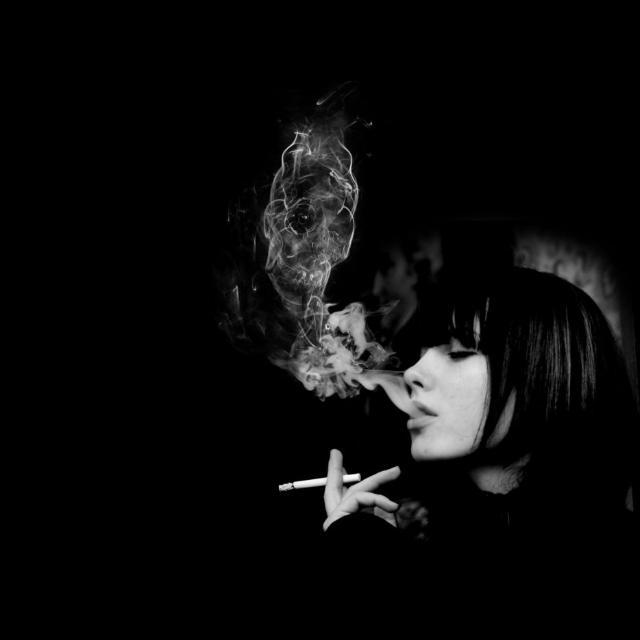rokok: (273, 471, 369, 494)
